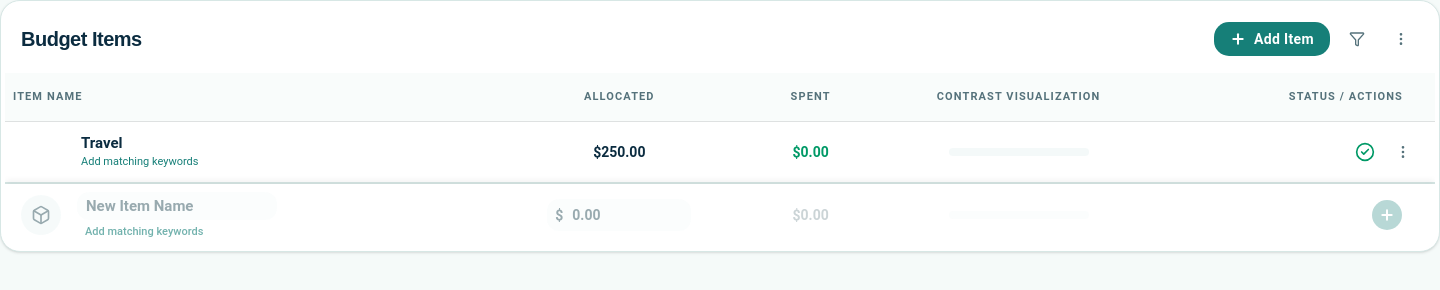
it: matching keywords › preserves a failed name edit and displays the API error
Click the button "Travel" at (102, 144), box [77,133,127,154]
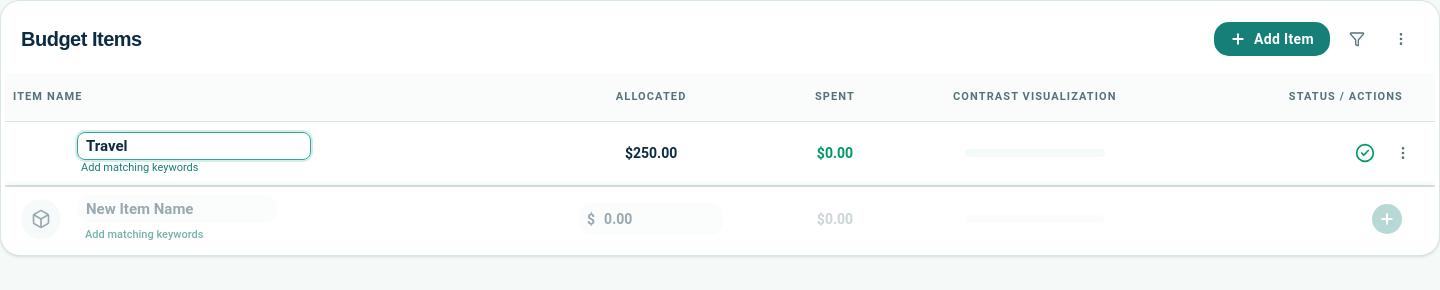
Replace the text in the field named "Item name" with "Transport" at (194, 146), box [77,132,311,160]
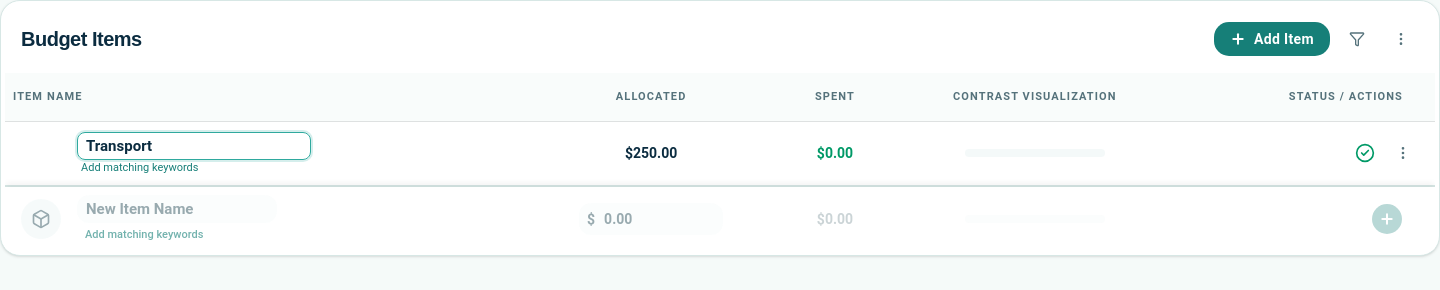
Press Enter in the field named "Item name", box [77,132,311,160]
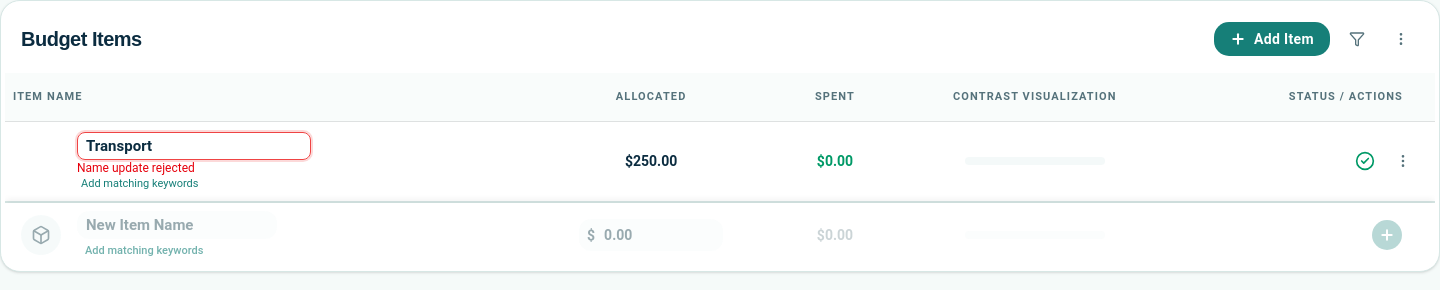
Expected: the message reads "Name update rejected", [77,160,195,174]
